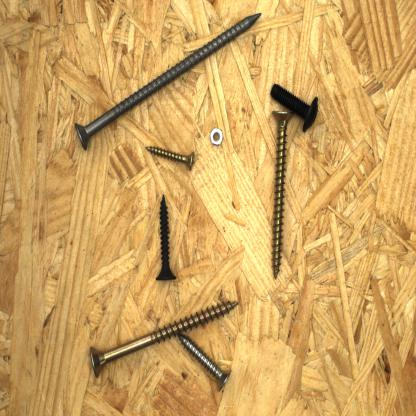screw: (71, 8, 265, 154), (86, 297, 241, 383), (268, 103, 299, 283), (175, 331, 235, 394), (267, 80, 324, 136), (149, 190, 179, 286), (141, 143, 198, 171)
